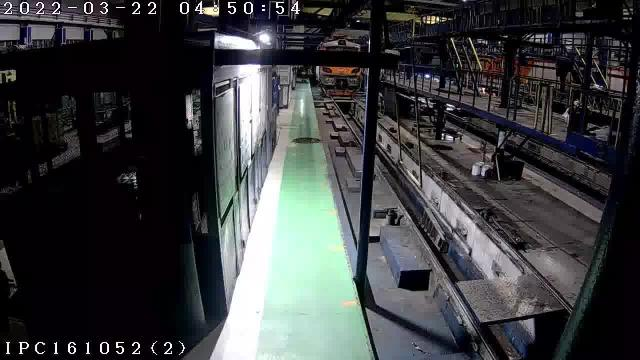train: (316, 66, 362, 94)
